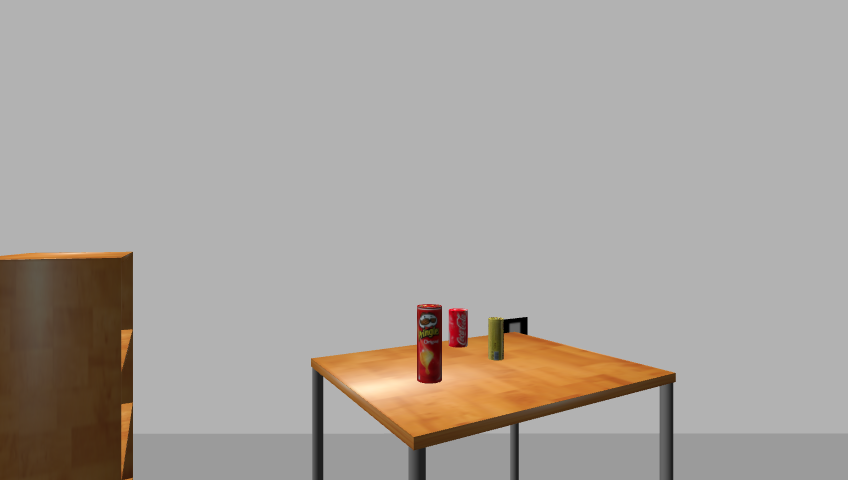aruco marker: (494, 316, 531, 339)
biscuits pack: (489, 317, 506, 362)
bookshelf: (0, 250, 142, 480)
coke can: (446, 308, 469, 349)
dinner table: (301, 337, 685, 479)
pringles can: (415, 304, 444, 385)
